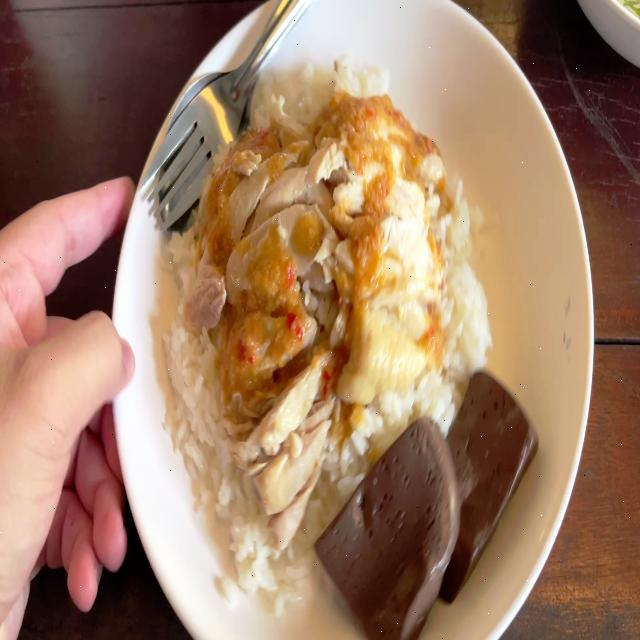boiled_chicken: (218, 120, 418, 449)
boiled_chicken_blood_jelly: (321, 414, 454, 640), (435, 371, 523, 590)
chicken_rice: (136, 67, 543, 639)
